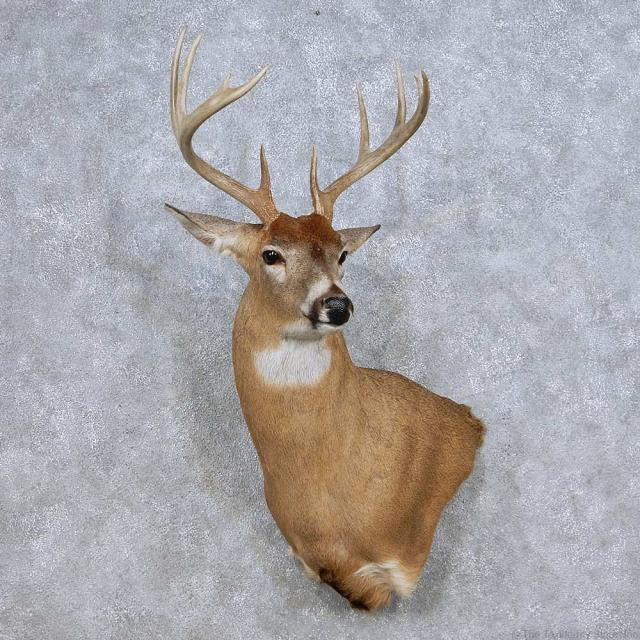E1: (215, 72, 232, 94)
L-F: (313, 69, 430, 226)
L-G1: (310, 144, 327, 205)
L-G2: (356, 85, 372, 163)
L-G3: (391, 59, 406, 133)
R-F: (179, 65, 281, 229)
R-G1: (255, 143, 273, 199)
R-G3: (176, 34, 202, 126)
